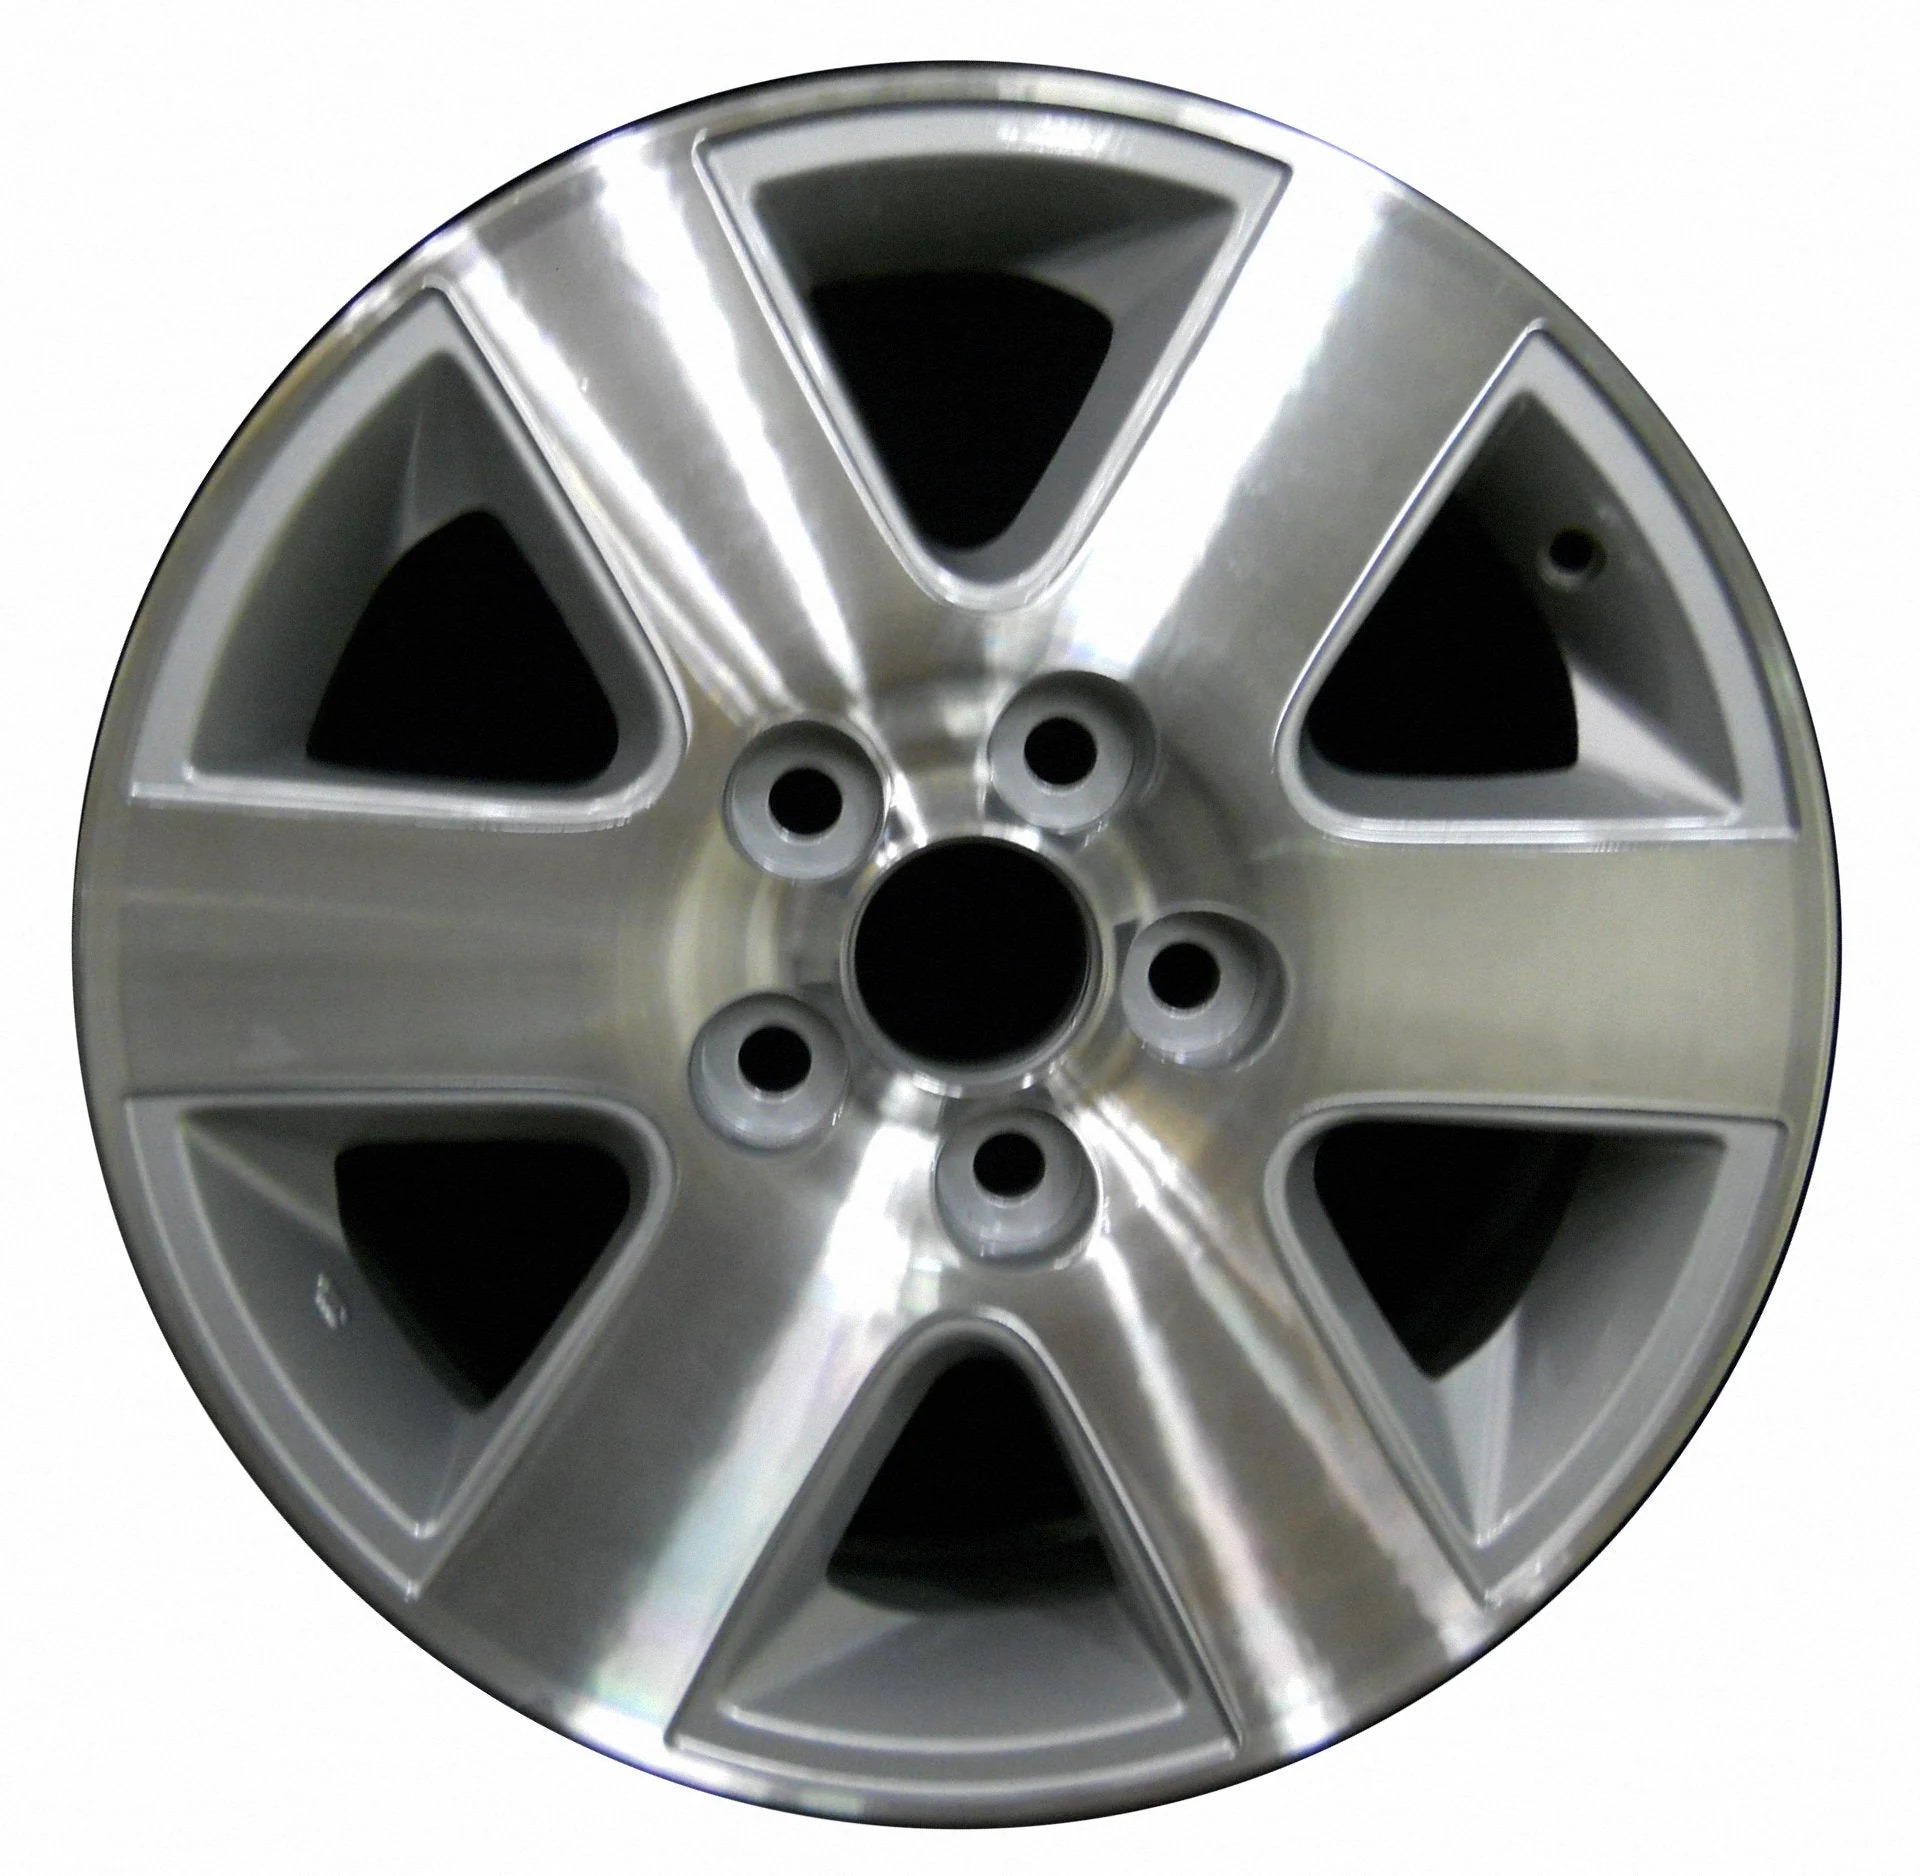m: (663, 972, 871, 1160), (1104, 868, 1286, 1069), (977, 646, 1171, 831), (921, 1101, 1123, 1276), (728, 711, 871, 878)
